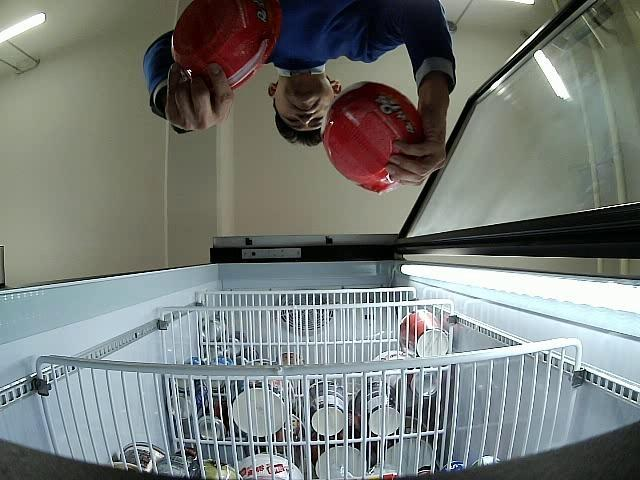10_wangTtukkeong: (322, 80, 422, 193), (170, 0, 280, 90)
